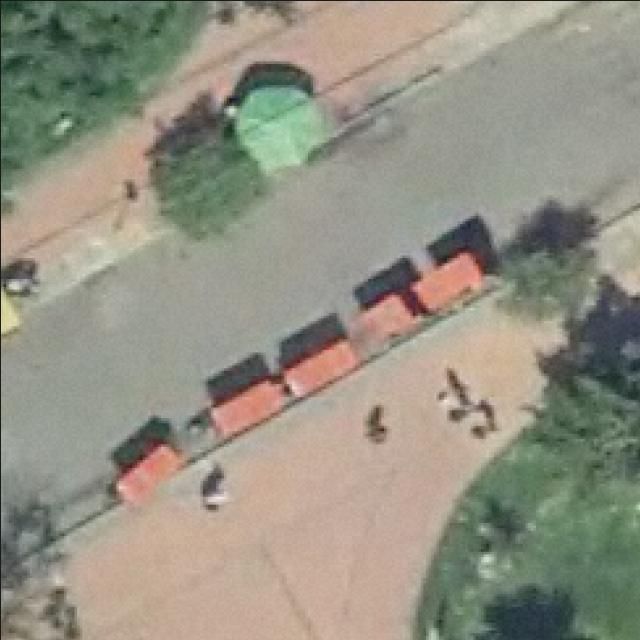vendedor_ambulante: (229, 78, 327, 174)
